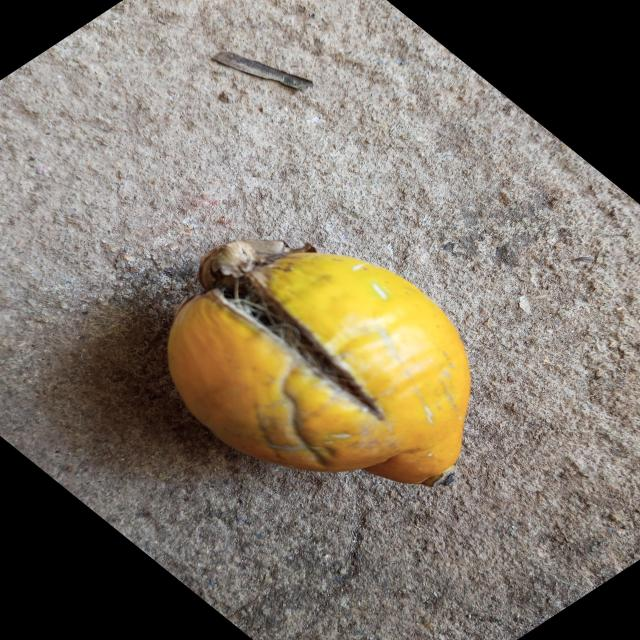damaged: (168, 241, 470, 487)
